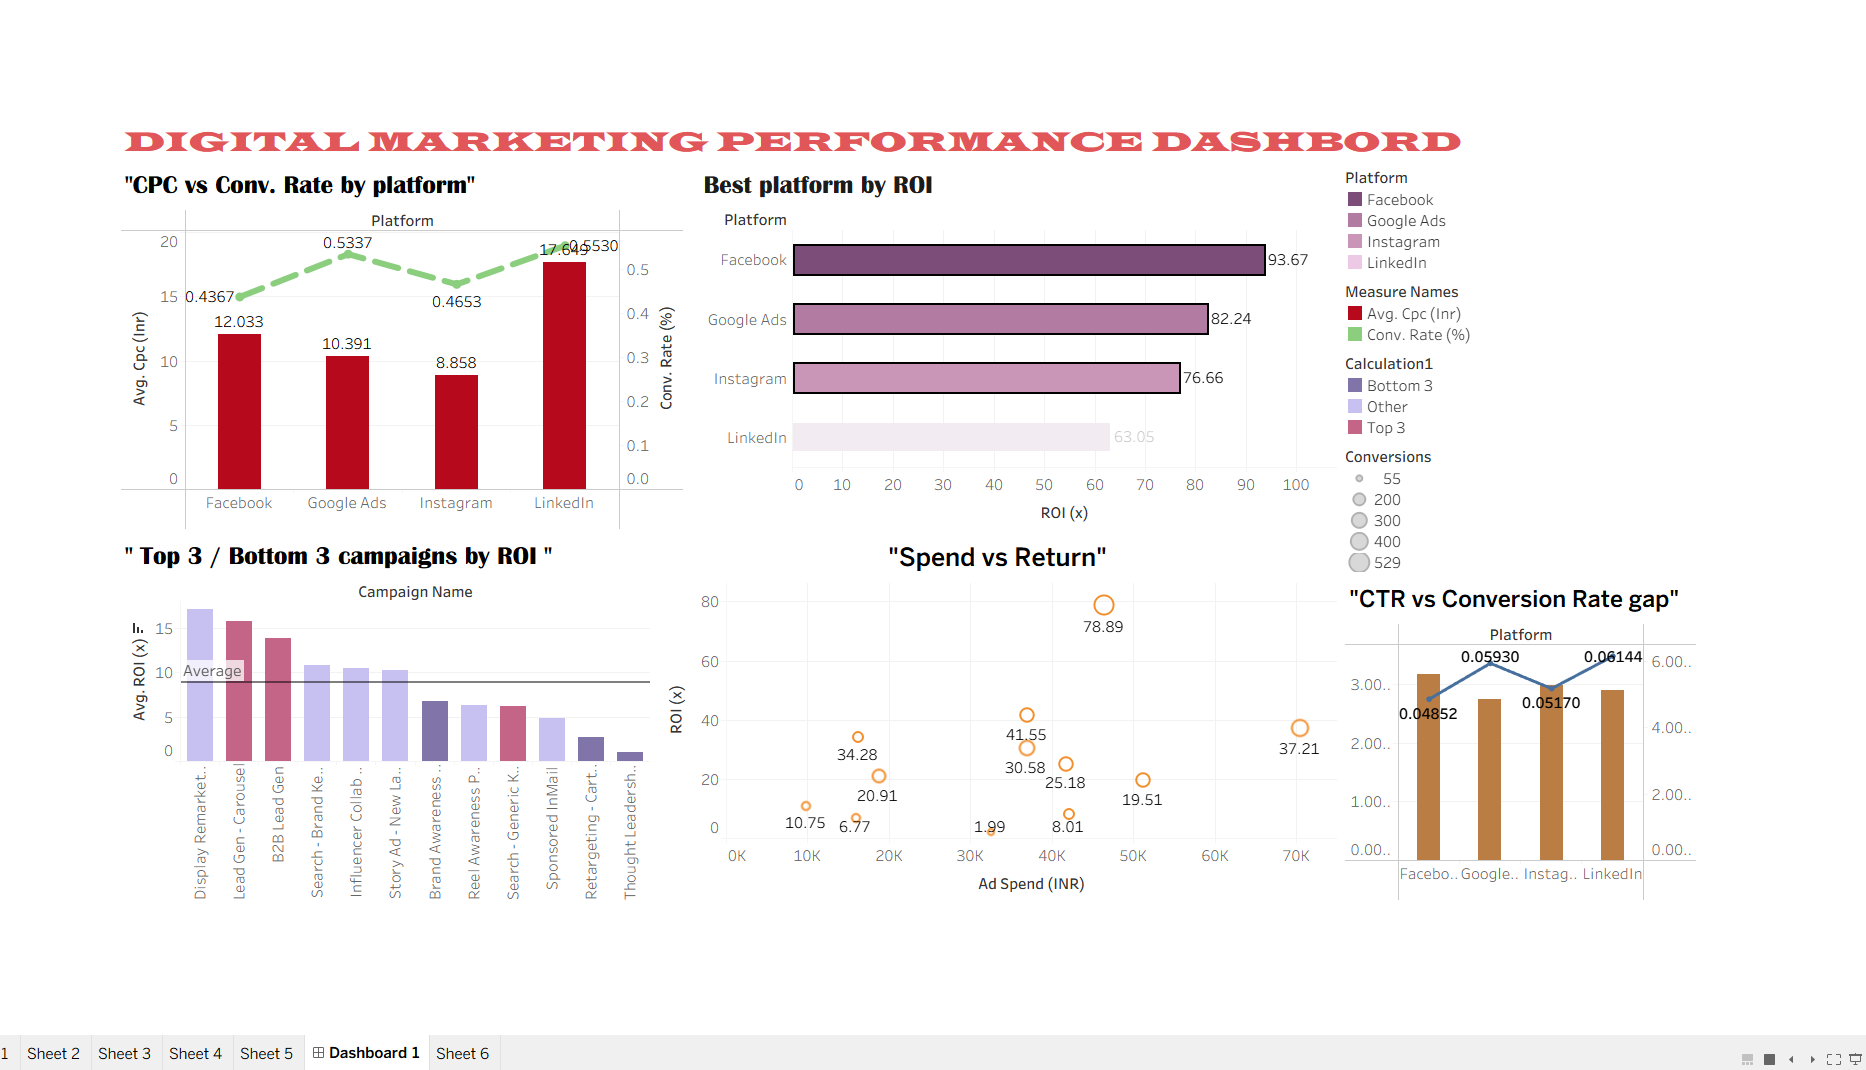

Layout of this report page (visuals, bound fields, positions):
{"tool":"tableau","page":{"name":"Dashboard 1","canvas":[1600,800],"ordinal":0},"visuals":[{"type":"title","box":[8,8,1584,42]},{"type":"worksheet","title":"Sheet 2","mark":"Automatic","rows":["CPC (INR)","Conv. Rate (%)"],"cols":["Platform"],"box":[8,50,571,371]},{"type":"worksheet","title":"Sheet 1","mark":"Automatic","rows":["Platform"],"cols":["ROI (x)"],"box":[579,50,653,371]},{"type":"legend","title":"Sheet 1","param":"[federated.1tgqgev1fo243u19y7c690bbvb5r].[none:Platform:nk]","box":[1232,50,360,114]},{"type":"legend","title":"Sheet 2","param":"[federated.1tgqgev1fo243u19y7c690bbvb5r].[:Measure Names]","box":[1232,164,360,72]},{"type":"legend","title":"Sheet 3","param":"[federated.1tgqgev1fo243u19y7c690bbvb5r].[usr:Calculation_1161124440289283:nk]","box":[1232,236,360,93]},{"type":"legend","title":"Sheet 4","param":"[federated.1tgqgev1fo243u19y7c690bbvb5r].[sum:Conversions:qk]","box":[1232,329,360,135]},{"type":"worksheet","title":"Sheet 3","mark":"Automatic","rows":["ROI (x)"],"cols":["Campaign Name"],"box":[8,421,536.8,371]},{"type":"worksheet","title":"Sheet 4","mark":"Automatic","rows":["ROI (x)"],"cols":["Ad Spend (INR)"],"box":[544.8,421,687.2,371]},{"type":"worksheet","title":"Sheet 5","mark":"Automatic","rows":["CTR (%)","Conv. Rate (%)"],"cols":["Platform"],"box":[1232,464,360,328]}]}

Visuals, with their boxes on the page's 1600x800 design canvas (x1, y1, x2, y2). These are canvas units, not pixel positions in the 1866x1070 screenshot, which may show the page scaled, cropped or inside an application window:
title: [x1=8, y1=8, x2=1592, y2=50]
"Sheet 2" worksheet: [x1=8, y1=50, x2=579, y2=421]
"Sheet 1" worksheet: [x1=579, y1=50, x2=1232, y2=421]
"Sheet 1" legend: [x1=1232, y1=50, x2=1592, y2=164]
"Sheet 2" legend: [x1=1232, y1=164, x2=1592, y2=236]
"Sheet 3" legend: [x1=1232, y1=236, x2=1592, y2=329]
"Sheet 4" legend: [x1=1232, y1=329, x2=1592, y2=464]
"Sheet 3" worksheet: [x1=8, y1=421, x2=545, y2=792]
"Sheet 4" worksheet: [x1=545, y1=421, x2=1232, y2=792]
"Sheet 5" worksheet: [x1=1232, y1=464, x2=1592, y2=792]
